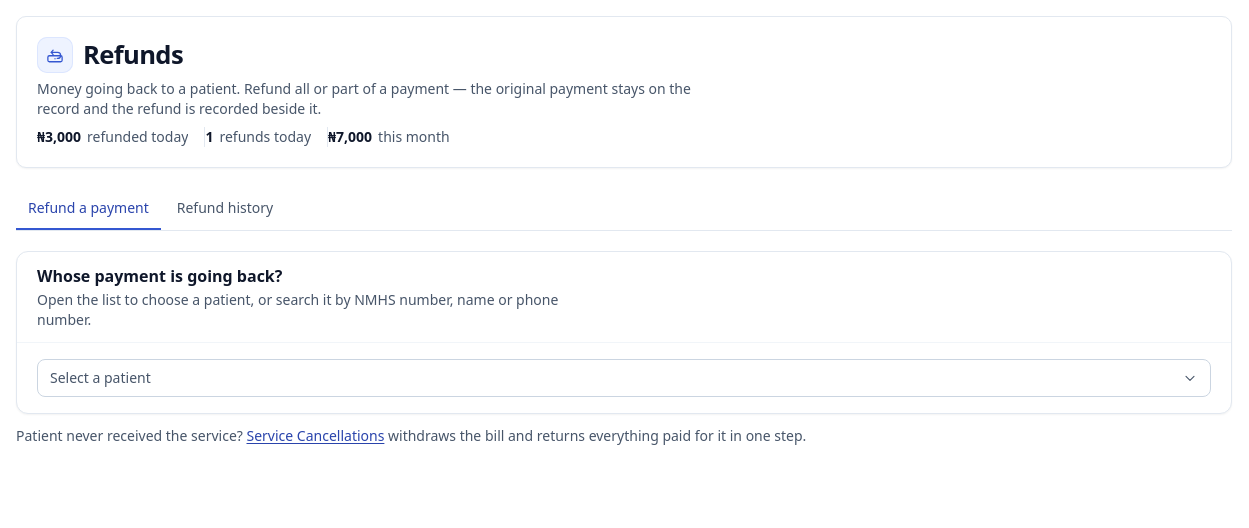
Test case: the page › opens on a patient dropdown that stays closed until it is clicked
Click the button "Select a patient".
click(100, 378)  # box [37,359,1211,397]
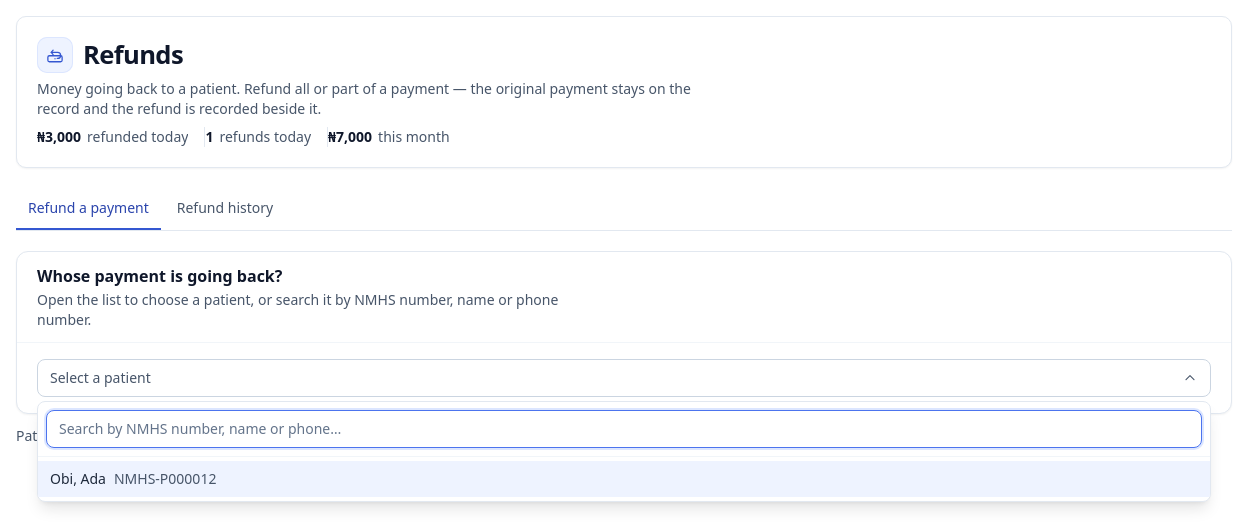
Expected: the option "Obi, Ada" is shown, [38,461,1210,497]
